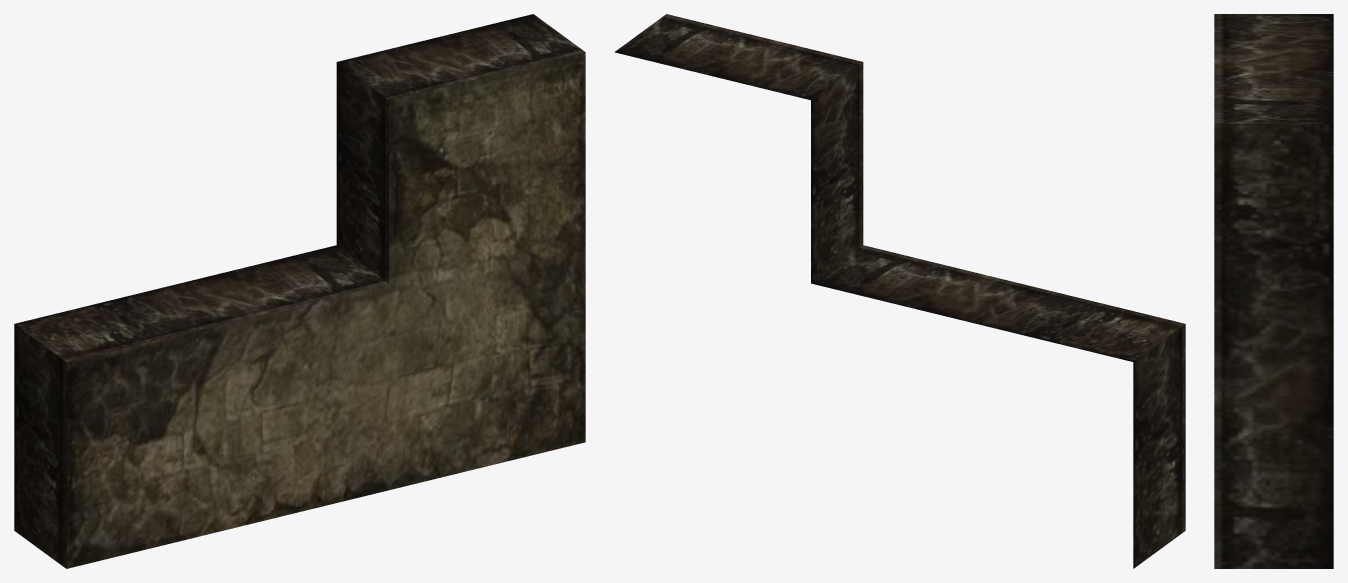
3 renders of one model, left to right at view 1: azimuth 30°, elevation 25°; view 2: azimuth 150°, elevation 25°; view 3: azimuth 270°, elevation 25°, orthographic. The views are drawn at different scales.
Visible parts, largest first — view 1: model_Object05; view 2: model_Object05; view 3: model_Object05.
Boxes of the visible parts, bbox=[...] form: model_Object05: bbox=[14, 14, 585, 568]; model_Object05: bbox=[614, 14, 1185, 568]; model_Object05: bbox=[1214, 14, 1333, 568].
Bounding box in the file's own units: 2.86 × 2.05 × 0.4991.
Materials: 1 (1 with a texture image).
